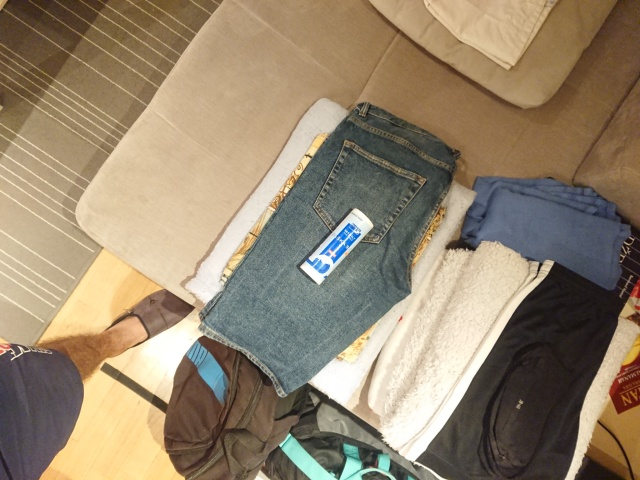Solana Pag Fine Sea Salt 250g: (295, 205, 377, 288)
